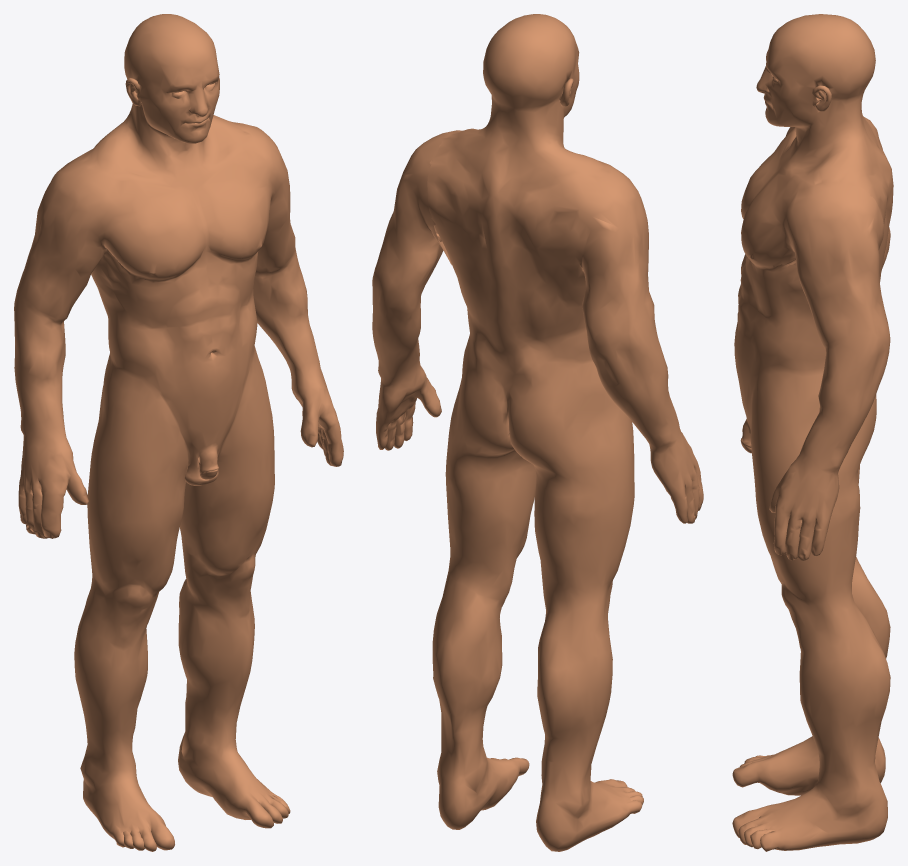
File: skin.fbx
The picture shows the model from 3 angles, left to right: view 1: azimuth 30°, elevation 25°; view 2: azimuth 150°, elevation 25°; view 3: azimuth 270°, elevation 25°; orthographic projection.
Parts seen in each view (by area): view 1: Base_Sculpt; view 2: Base_Sculpt; view 3: Base_Sculpt.
Boxes of the visible parts, bbox=[...] form: Base_Sculpt: bbox=[14, 14, 343, 851]; Base_Sculpt: bbox=[372, 14, 703, 851]; Base_Sculpt: bbox=[732, 14, 893, 851].
Bounding box in the file's own units: 2792 × 6930 × 1265.
